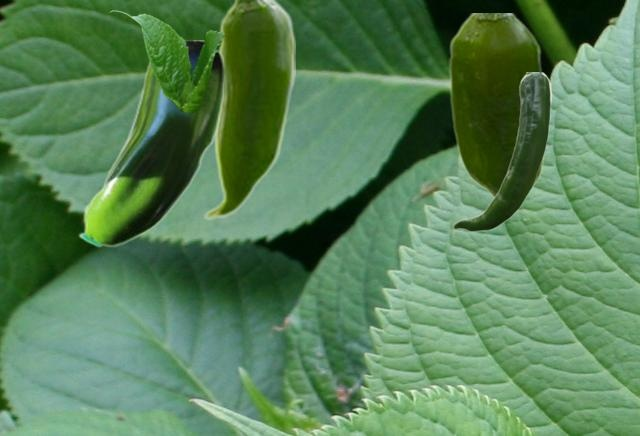green_chili: (77, 40, 222, 247), (202, 0, 294, 220), (448, 13, 543, 199), (452, 72, 551, 231)
